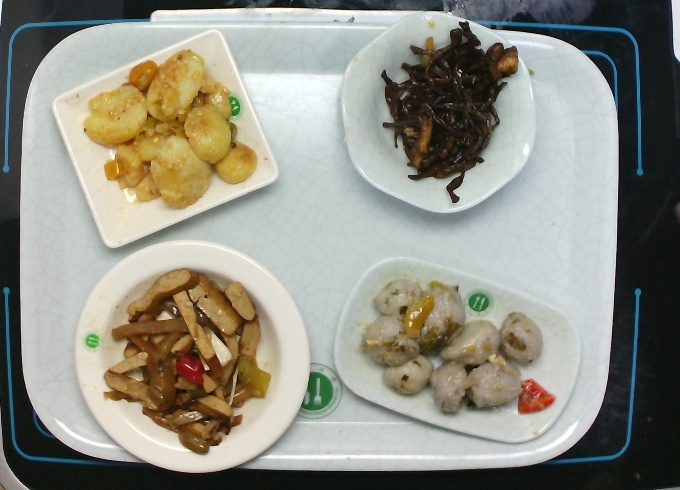WCQzf-Bai_Se_Si_Fang_Die: (49, 27, 281, 250)
WCQzf-Hua_Duo_Wan: (336, 9, 540, 215)
WCQzf-Kuan_Bian_Yuan_Die: (70, 235, 312, 476)
WCQzf-Tuo_Yuan_Pan: (330, 252, 585, 447)
